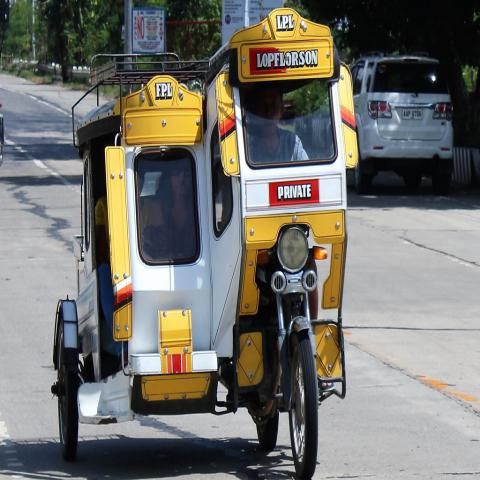car: (352, 56, 458, 193)
motorcycle: (47, 8, 357, 480)
